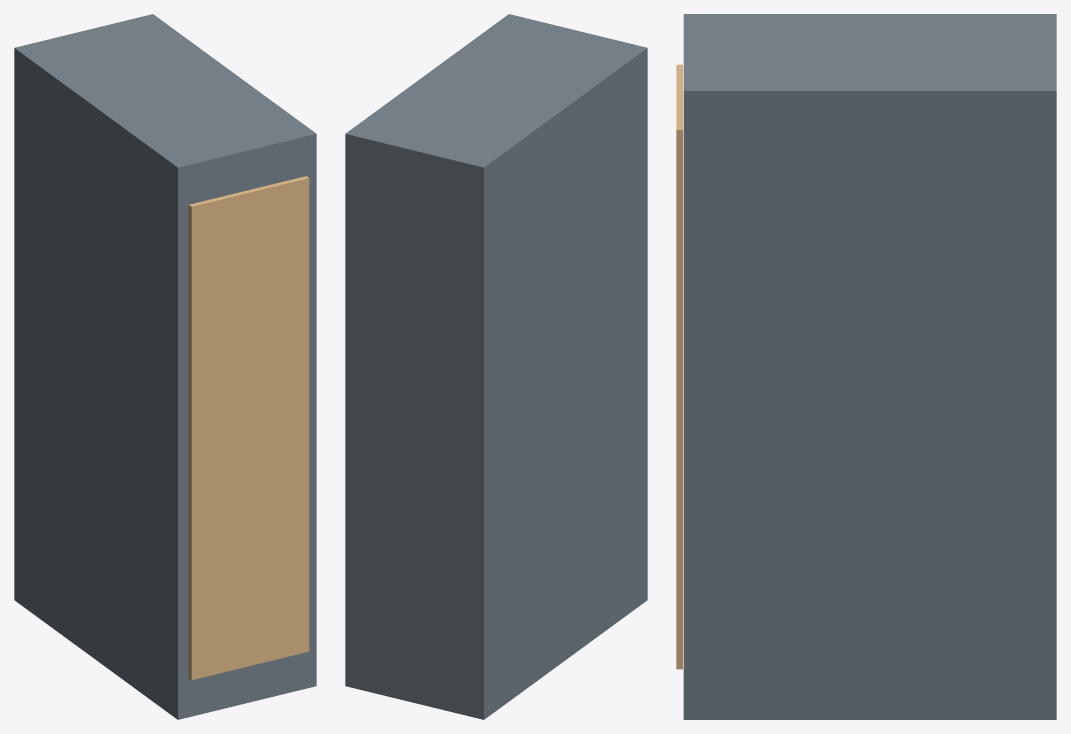
Rendered from rpp.glb.
The picture shows the model from 3 angles, left to right: view 1: azimuth 30°, elevation 25°; view 2: azimuth 150°, elevation 25°; view 3: azimuth 270°, elevation 25°; orthographic projection. The views are drawn at different scales.
Visible parts, largest first — view 1: Body, Front; view 2: Body; view 3: Body, Front.
Boxes of the visible parts, <box> form: Body: <box>14,14,316,719</box>; Front: <box>188,176,309,679</box>; Body: <box>345,14,647,719</box>; Body: <box>683,14,1056,719</box>; Front: <box>676,64,682,669</box>.
Size of the model in its own units: 0.552 by 2.1 by 1.15.
